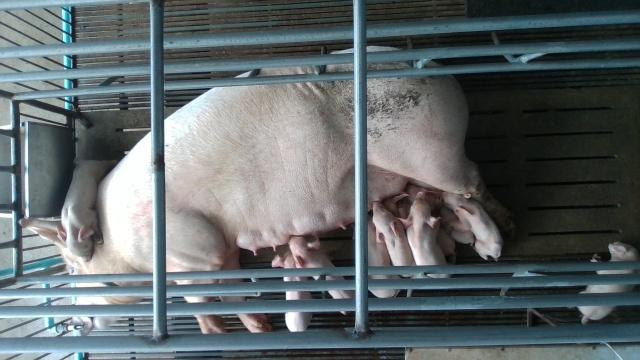piglet: (62, 159, 119, 262), (575, 241, 640, 325), (289, 236, 356, 316), (401, 192, 453, 277), (443, 192, 504, 262), (372, 201, 417, 277), (271, 251, 313, 332)
sow-sleep-lactate: (21, 44, 514, 335)
